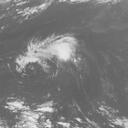cyclone: (25, 32, 77, 64)
